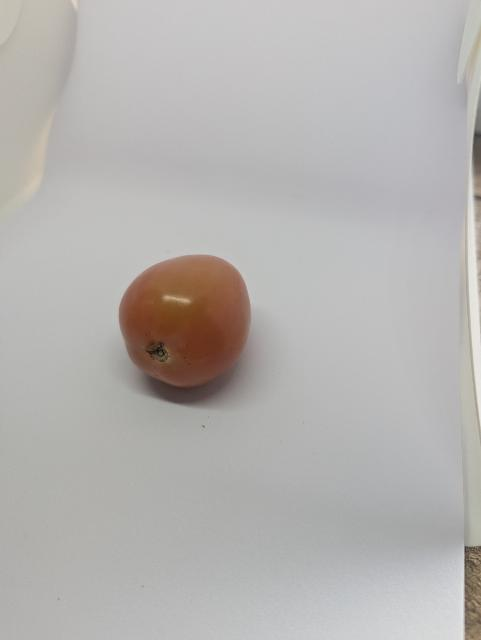red: (115, 250, 262, 400)
